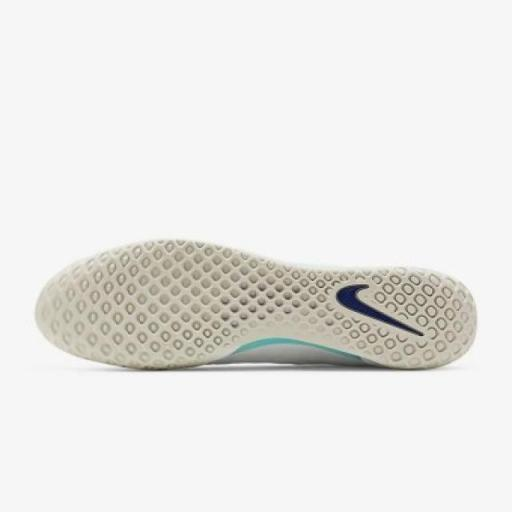Nike: (328, 280, 430, 341)
